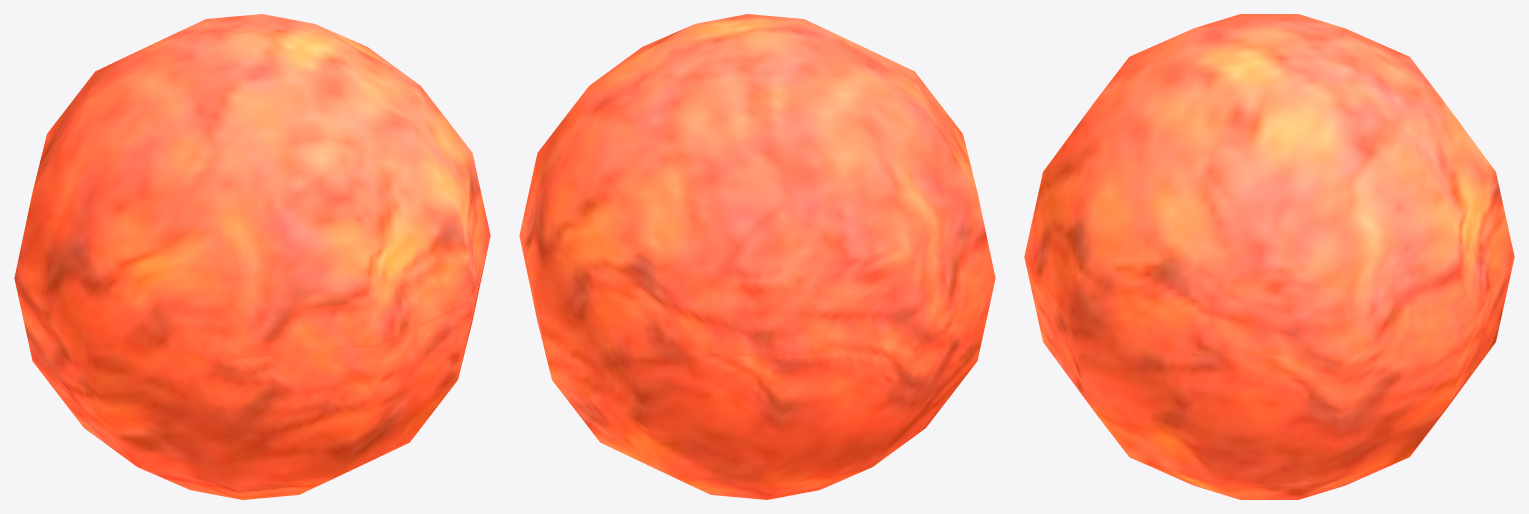
The model's file is fireball.glb.
3 views of the same model, side by side, from view 1: azimuth 30°, elevation 25°; view 2: azimuth 150°, elevation 25°; view 3: azimuth 270°, elevation 25° (orthographic).
Parts seen in each view (by area): view 1: Sphere.003; view 2: Sphere.003; view 3: Sphere.003.
Part boxes in pixels (bbox=[...]): Sphere.003: bbox=[14, 14, 490, 499]; Sphere.003: bbox=[519, 14, 995, 499]; Sphere.003: bbox=[1024, 14, 1514, 499].
Bounding box in the file's own units: 2.16 × 2.27 × 2.27.
1 material, 1 textured.
